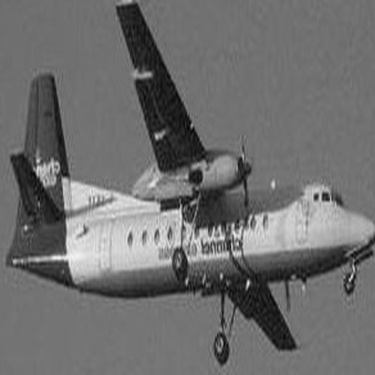airplane: (3, 4, 368, 369)
